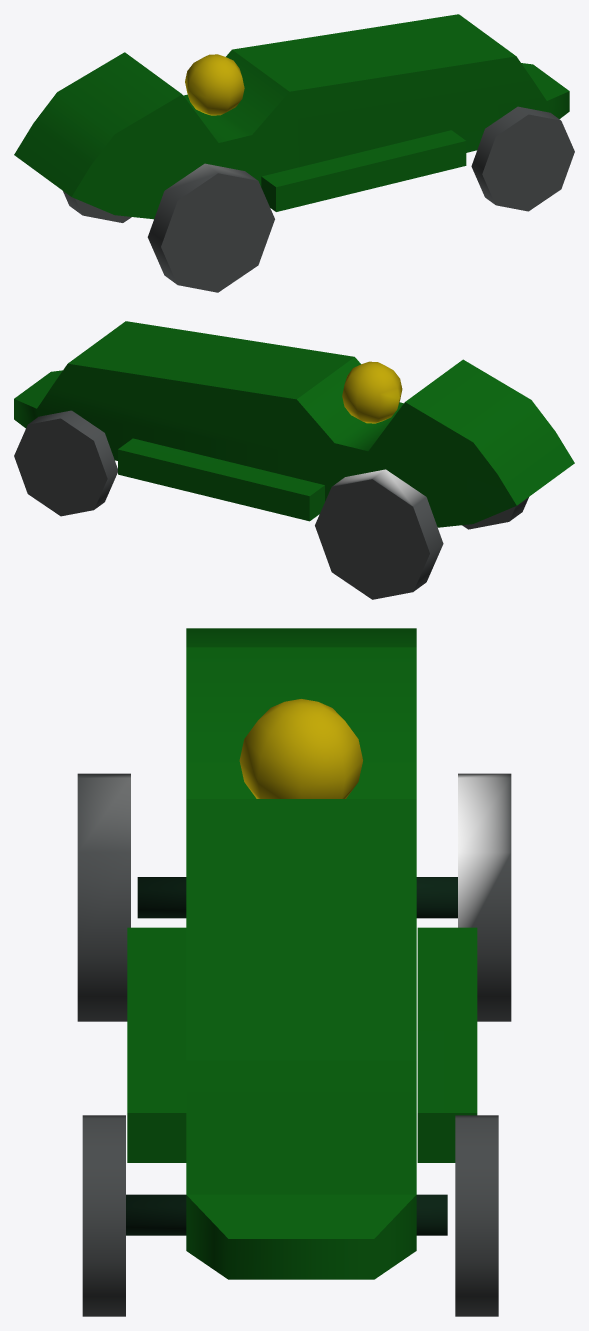
The model's file is CarrinhoCorrida.fbx.
3 renders of one model, top to bottom at view 1: azimuth 30°, elevation 25°; view 2: azimuth 150°, elevation 25°; view 3: azimuth 270°, elevation 25°, orthographic. The views are drawn at different scales.
Visible parts, largest first — view 1: CarrinhoCorrida; view 2: CarrinhoCorrida; view 3: CarrinhoCorrida.
Part boxes in pixels (box(x1,y1,x2,y2)): CarrinhoCorrida: box(14, 14, 574, 292); CarrinhoCorrida: box(14, 321, 574, 599); CarrinhoCorrida: box(77, 628, 511, 1316).
Bounding box in the file's own units: 12.16 × 4.16 × 4.49.
